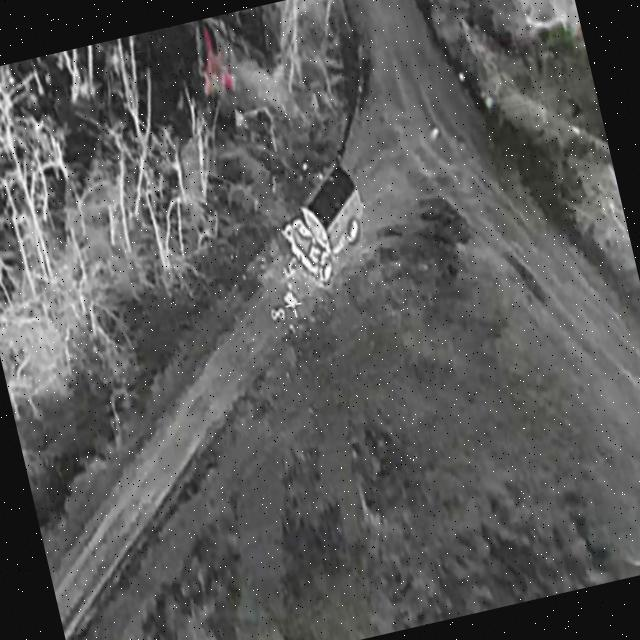Vehicle: (272, 158, 381, 296)
